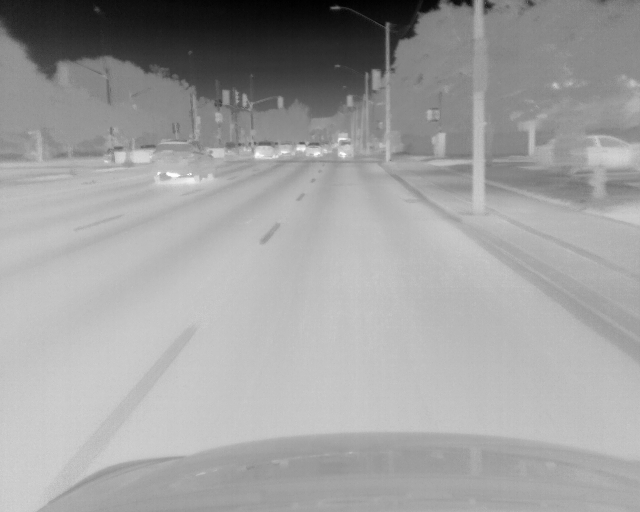car: (535, 132, 640, 176), (150, 138, 220, 185), (253, 141, 279, 160), (338, 139, 355, 160), (304, 142, 321, 158), (280, 141, 293, 156), (321, 142, 332, 155), (294, 141, 304, 153)
